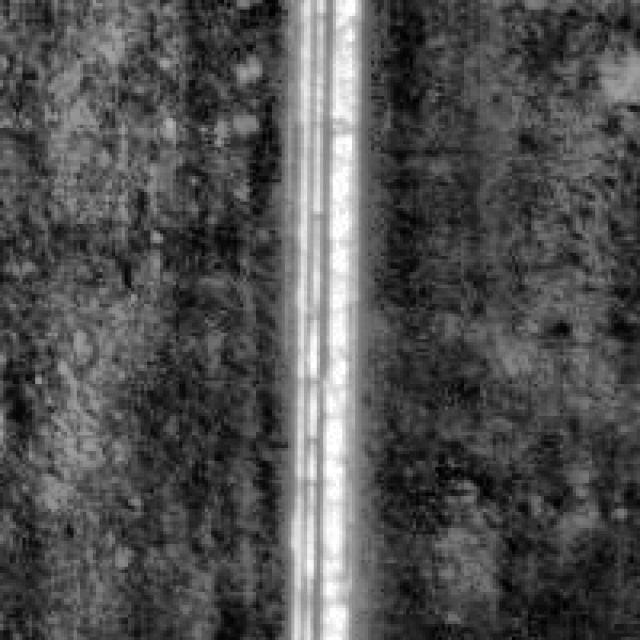Inclusion: (269, 0, 368, 634)
